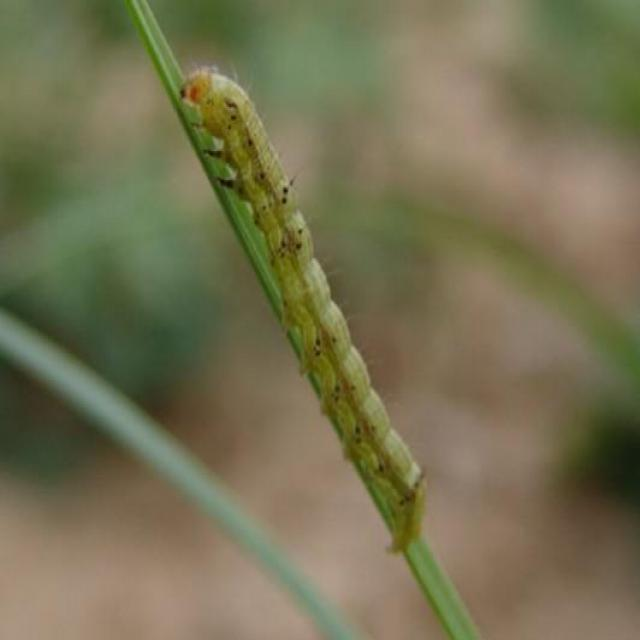BeetArmyWorm-Larva-: (171, 59, 434, 558)
